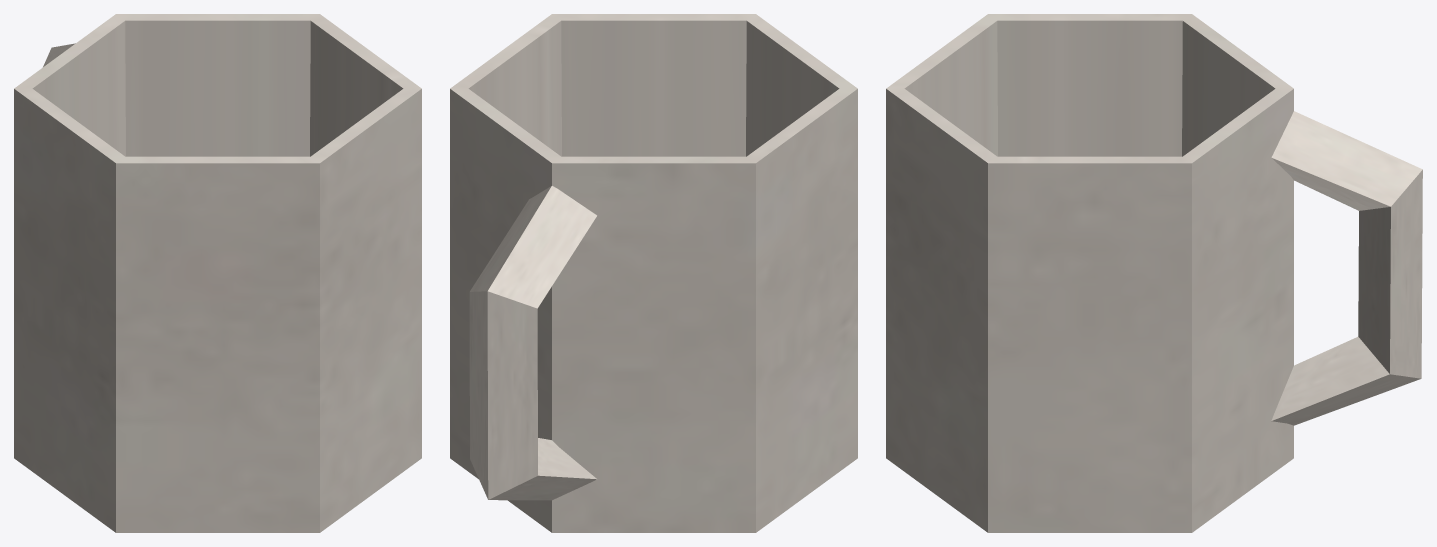
Rendered from mug.gltf.
3 renders of one model, left to right at view 1: azimuth 30°, elevation 25°; view 2: azimuth 150°, elevation 25°; view 3: azimuth 270°, elevation 25°, orthographic.
Visible parts, largest first — view 1: mug; view 2: mug; view 3: mug.
Boxes of the visible parts, box(x1,y1,x2,y2) form: mug: box(14, 14, 421, 532); mug: box(450, 14, 857, 532); mug: box(886, 14, 1422, 532).
Size of the model in its own units: 0.1223 by 0.1412 by 0.1858.
Materials: 1 (1 with a texture image).
